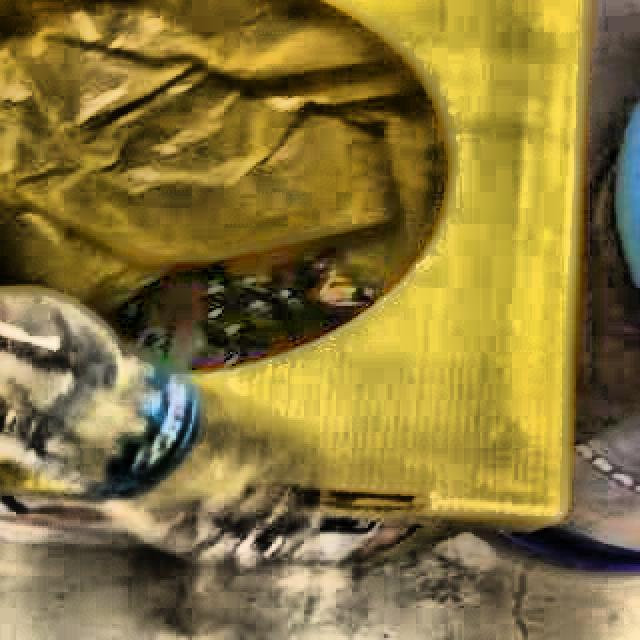plastic: (0, 290, 323, 565)
